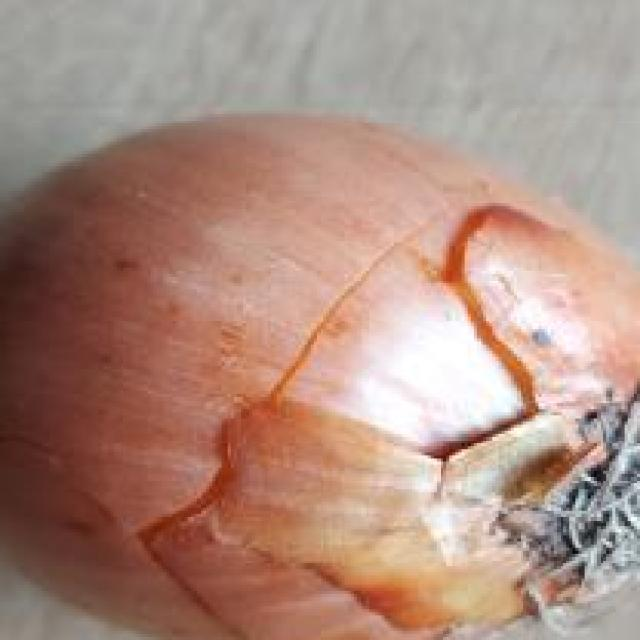onion: (0, 101, 640, 640)
